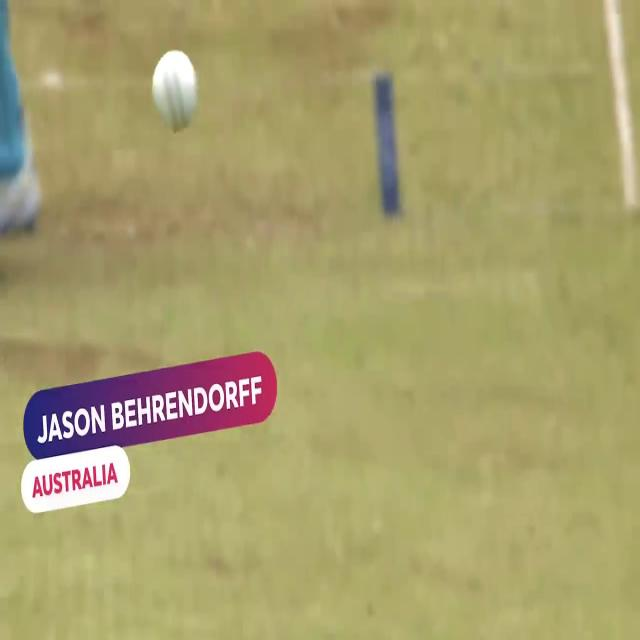ball: (142, 32, 215, 154)
